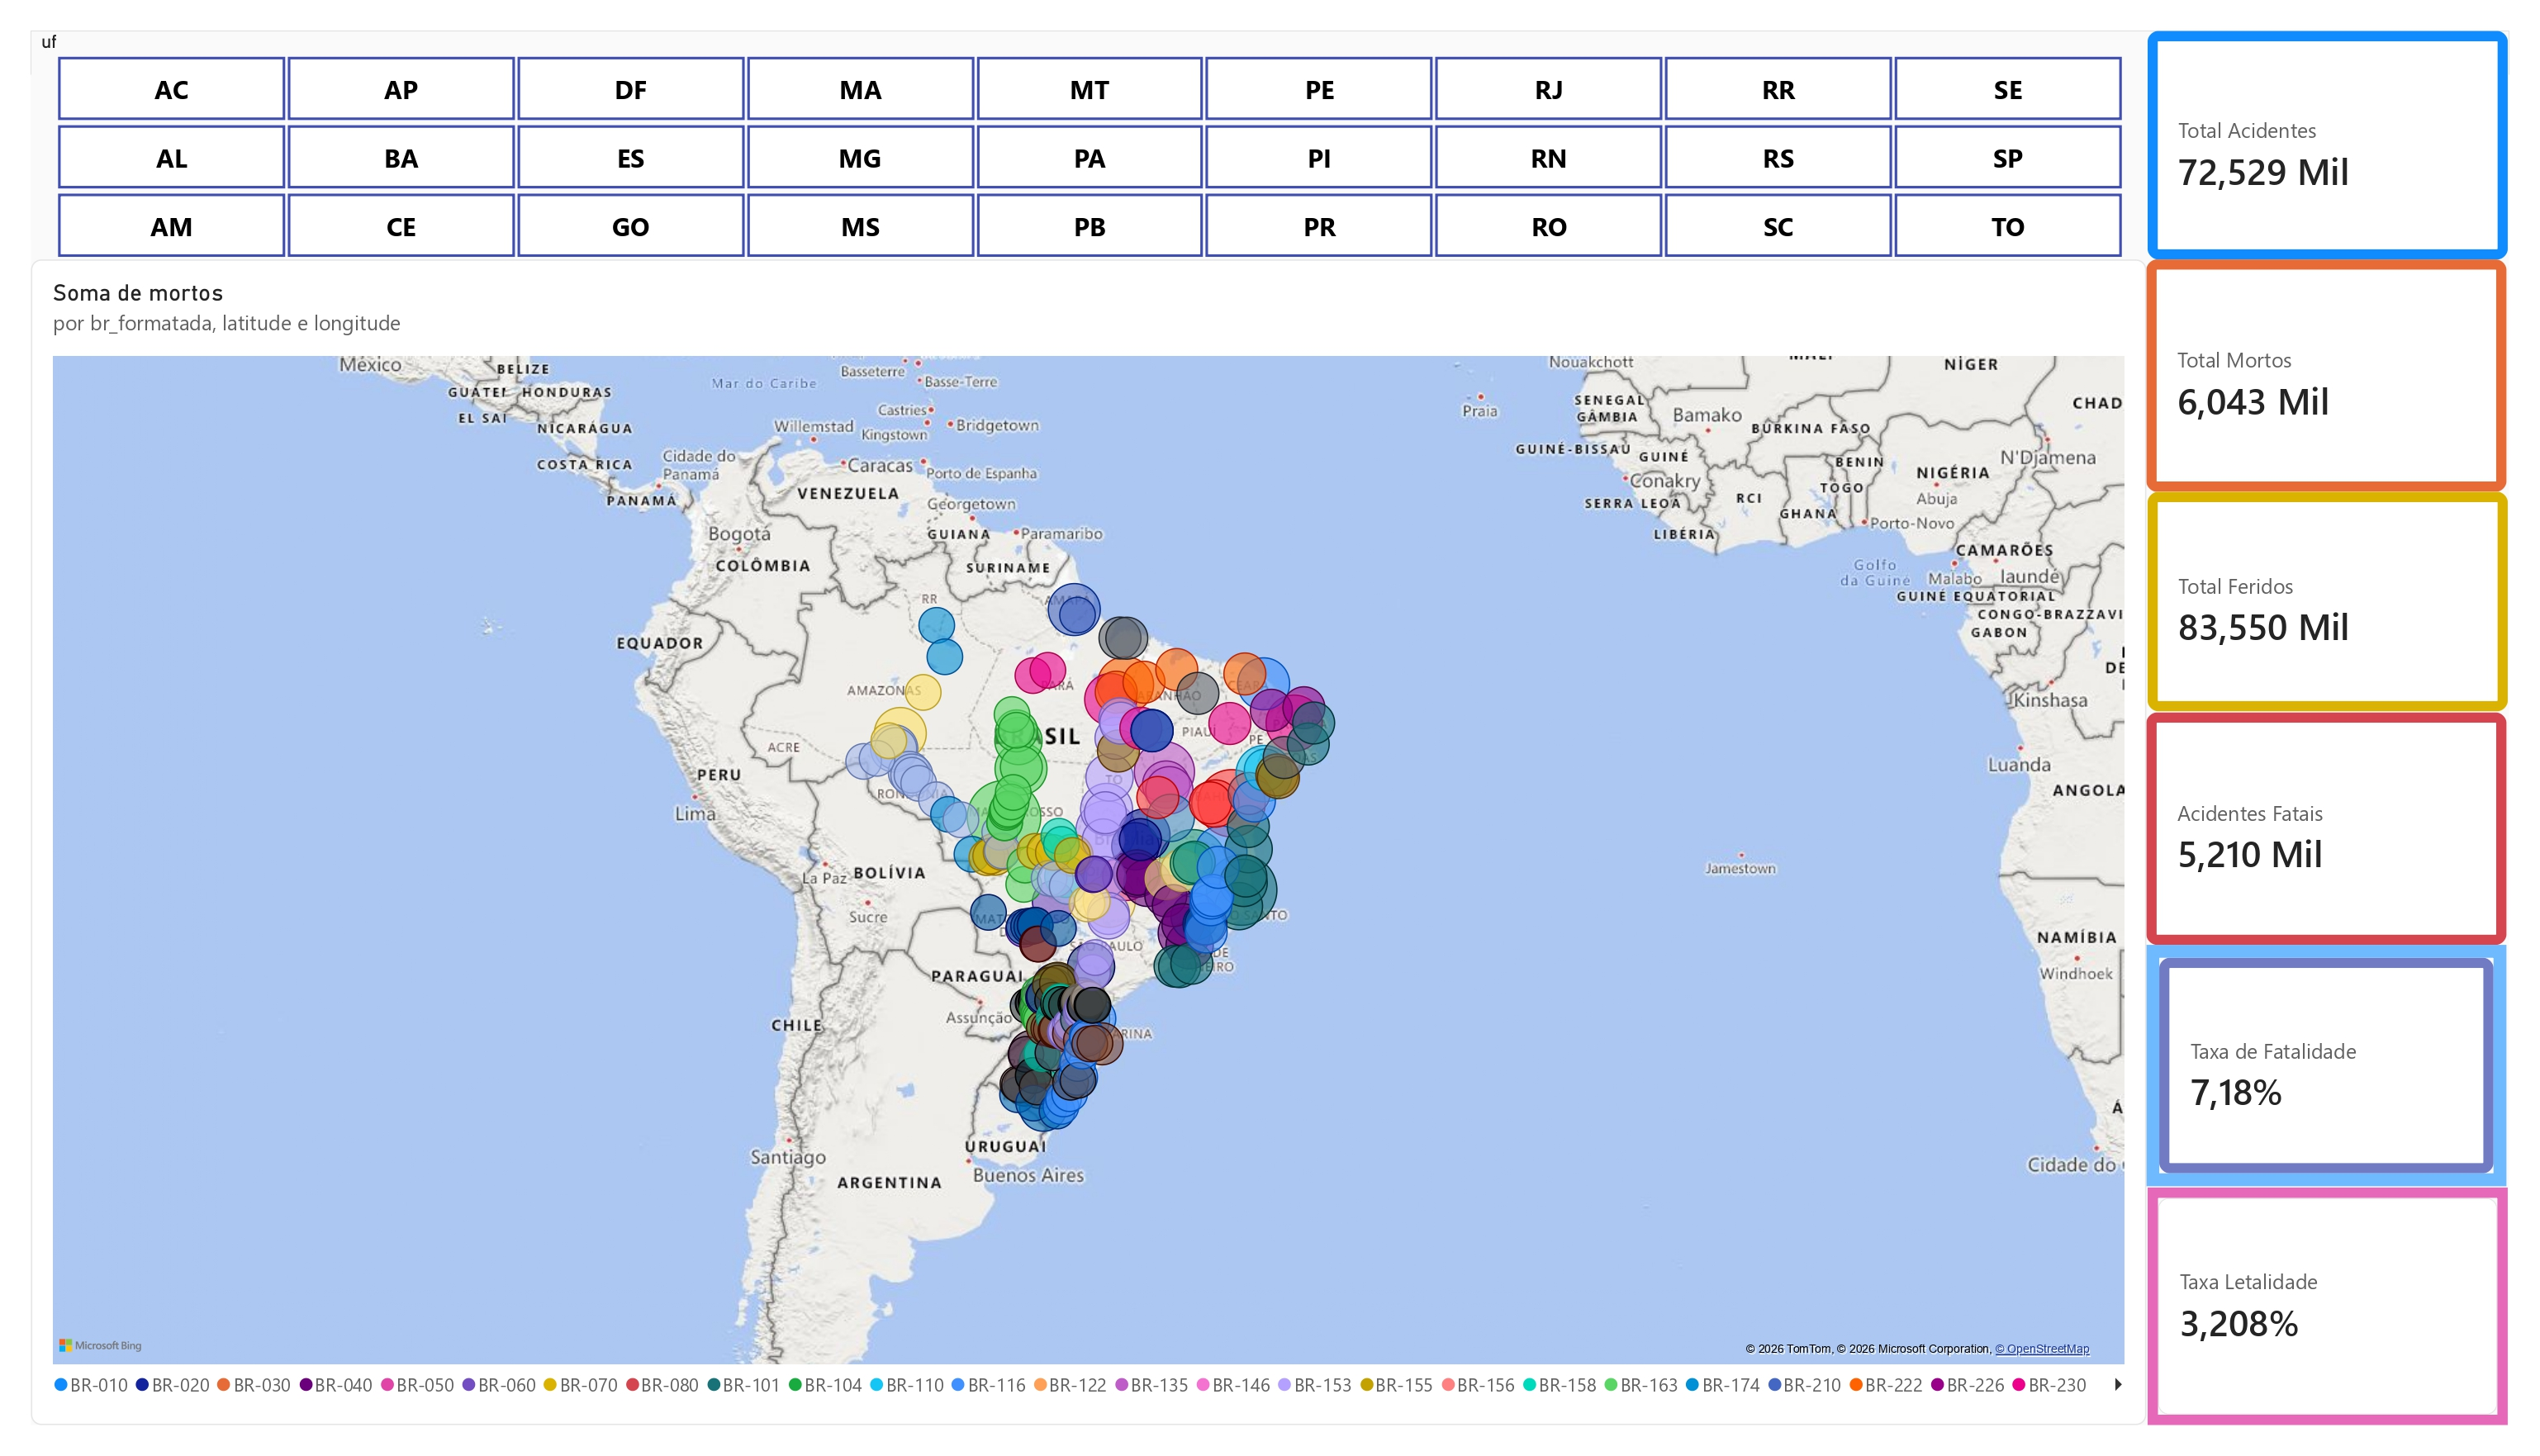

The page's visual inventory and layout, read from the dashboard file:
{"tool":"powerbi","page":{"name":"Geral 1","canvas":[1920,1080],"ordinal":0},"visuals":[{"type":"cardVisual","fields":{"Data":["base_analitica_prf_2025.Total_Acidentes"]},"box":[1640.1,0,279.9,177],"z":0},{"type":"cardVisual","fields":{"Data":["base_analitica_prf_2025.Total_Mortos"]},"box":[1638.6,177,279.9,180],"z":1000},{"type":"cardVisual","fields":{"Data":["base_analitica_prf_2025.Total_Feridos"]},"box":[1640.1,357.1,279.9,171],"z":2000},{"type":"cardVisual","fields":{"Data":["base_analitica_prf_2025.Acidentes_Fatais"]},"box":[1638.6,528,279.9,180],"z":3000},{"type":"cardVisual","fields":{"Data":["base_analitica_prf_2025.Porcentagem_Fatal"]},"box":[1638.6,708.1,279.9,187.6],"z":4000},{"type":"cardVisual","fields":{"Data":["base_analitica_prf_2025.Taxa Letalidade"]},"box":[1640.1,895.7,279.9,184.6],"z":5000},{"type":"map","fields":{"Series":["base_analitica_prf_2025.br_formatada"],"Size":["Sum(base_analitica_prf_2025.mortos)"],"X":["base_analitica_prf_2025.longitude"],"Y":["base_analitica_prf_2025.latitude"]},"box":[0,177,1638.6,903.3],"z":6000},{"type":"slicer","fields":{"Values":["base_analitica_prf_2025.uf"]},"box":[0,0,1638.6,177],"z":7000}]}

Visuals, with their boxes in screenshot pixels (x1, y1, x2, y2):
cardVisual - base_analitica_prf_2025.Total_Acidentes: box=[2144, 20, 2495, 243]
cardVisual - base_analitica_prf_2025.Total_Mortos: box=[2141, 243, 2494, 469]
cardVisual - base_analitica_prf_2025.Total_Feridos: box=[2144, 469, 2495, 685]
cardVisual - base_analitica_prf_2025.Acidentes_Fatais: box=[2141, 684, 2494, 911]
cardVisual - base_analitica_prf_2025.Porcentagem_Fatal: box=[2141, 911, 2494, 1147]
cardVisual - base_analitica_prf_2025.Taxa Letalidade: box=[2144, 1147, 2495, 1379]
map - base_analitica_prf_2025.br_formatada x Sum(base_analitica_prf_2025.mortos): box=[79, 243, 2141, 1379]
slicer - base_analitica_prf_2025.uf: box=[79, 20, 2141, 243]
